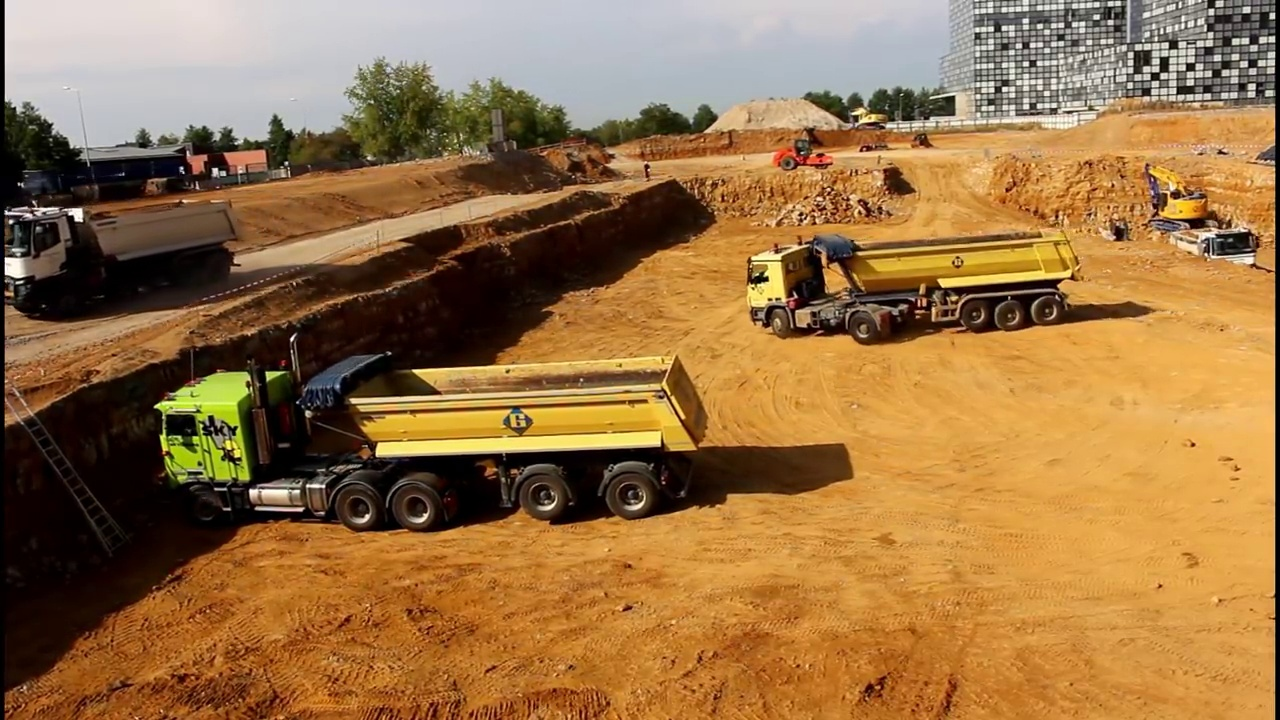compactor: (772, 138, 836, 172)
excavator: (1140, 155, 1220, 245), (844, 102, 886, 130)
truck: (151, 328, 709, 533), (744, 226, 1088, 345), (1, 193, 243, 321), (1168, 223, 1261, 279)
worker: (641, 159, 655, 185)
